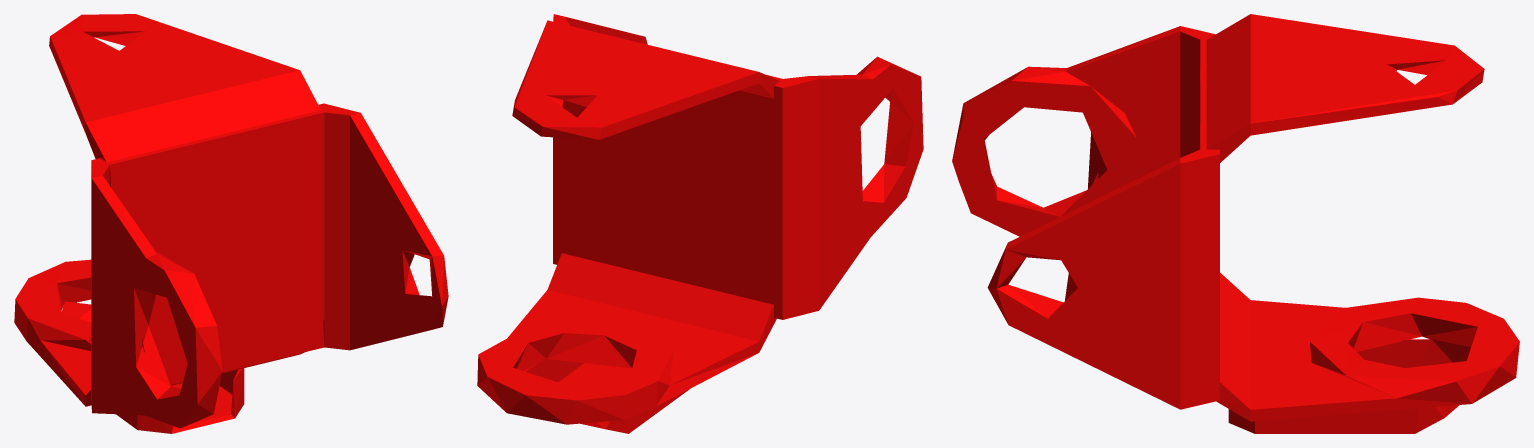
Rendered from warec-RL_HIP_R-visual-0.dae.
3 renders of one model, left to right at view 1: azimuth 30°, elevation 25°; view 2: azimuth 150°, elevation 25°; view 3: azimuth 270°, elevation 25°, orthographic. The views are drawn at different scales.
Visible parts, largest first — view 1: root; view 2: root; view 3: root.
Boxes of the visible parts, box(x1,y1,x2,y2) form: root: box(14, 14, 448, 433); root: box(477, 14, 923, 433); root: box(952, 14, 1519, 433).
Size of the model in its own units: 0.1485 by 0.1701 by 0.259.
